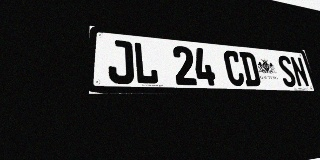2: (172, 45, 197, 85)
4: (192, 47, 216, 86)
C: (222, 50, 246, 86)
D: (239, 52, 262, 86)
J: (108, 39, 134, 84)
L: (133, 42, 159, 85)
N: (289, 56, 310, 87)
S: (276, 55, 298, 87)
